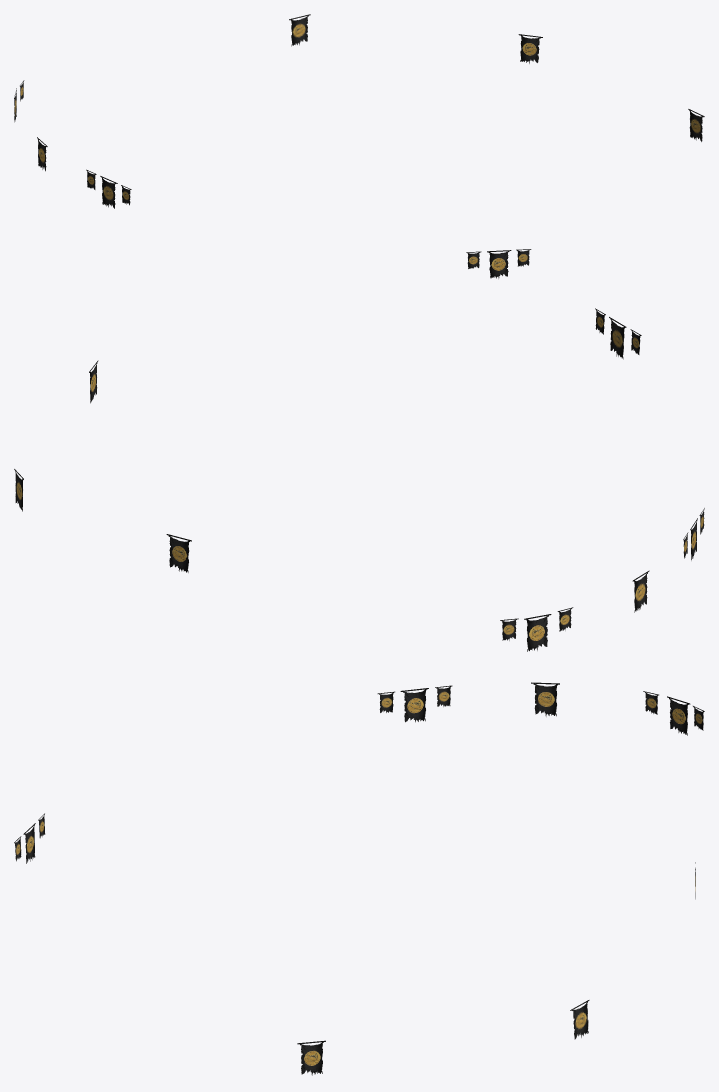
File: worldbanners.fbx
3 renders of one model, top to bottom at view 1: azimuth 30°, elevation 25°; view 2: azimuth 150°, elevation 25°; view 3: azimuth 270°, elevation 25°, orthographic. The views are drawn at different scales.
Visible parts, largest first — view 1: bannergroup; view 2: bannergroup; view 3: bannergroup.
Part boxes in pixels (bbox=[...]): bannergroup: bbox=[14, 14, 704, 278]; bannergroup: bbox=[14, 308, 704, 651]; bannergroup: bbox=[14, 682, 704, 1075].
Size of the model in its own units: 4110 by 444 by 3738.
Materials: 1 (1 with a texture image).
